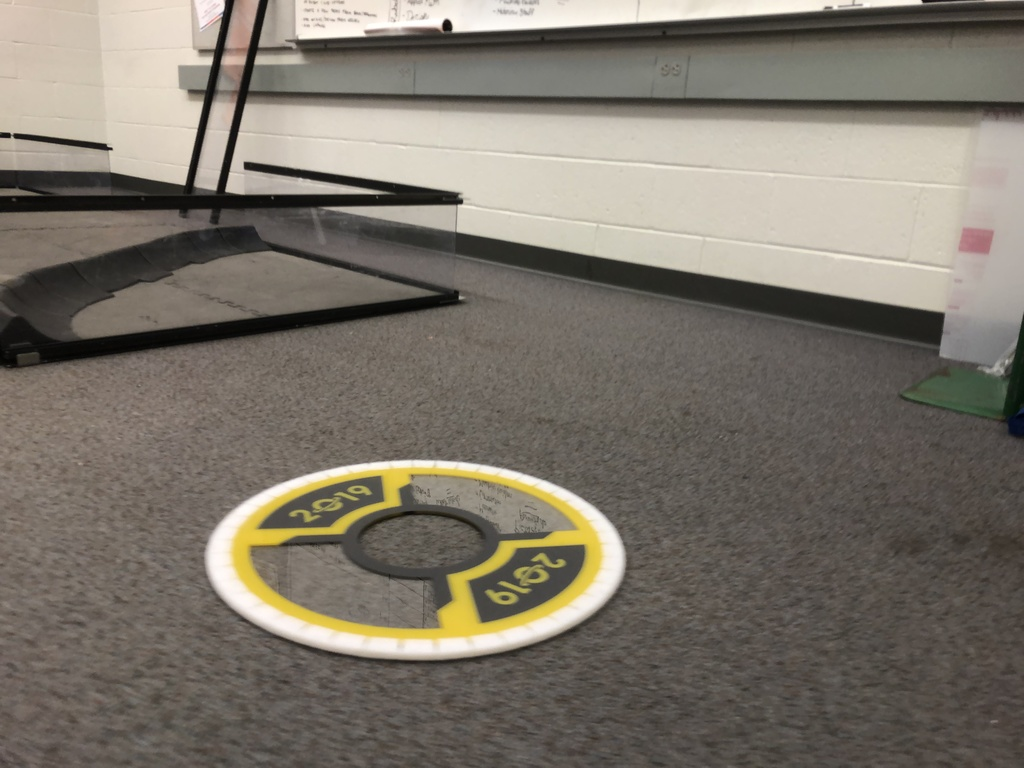hatch_panel: (191, 444, 650, 673)
